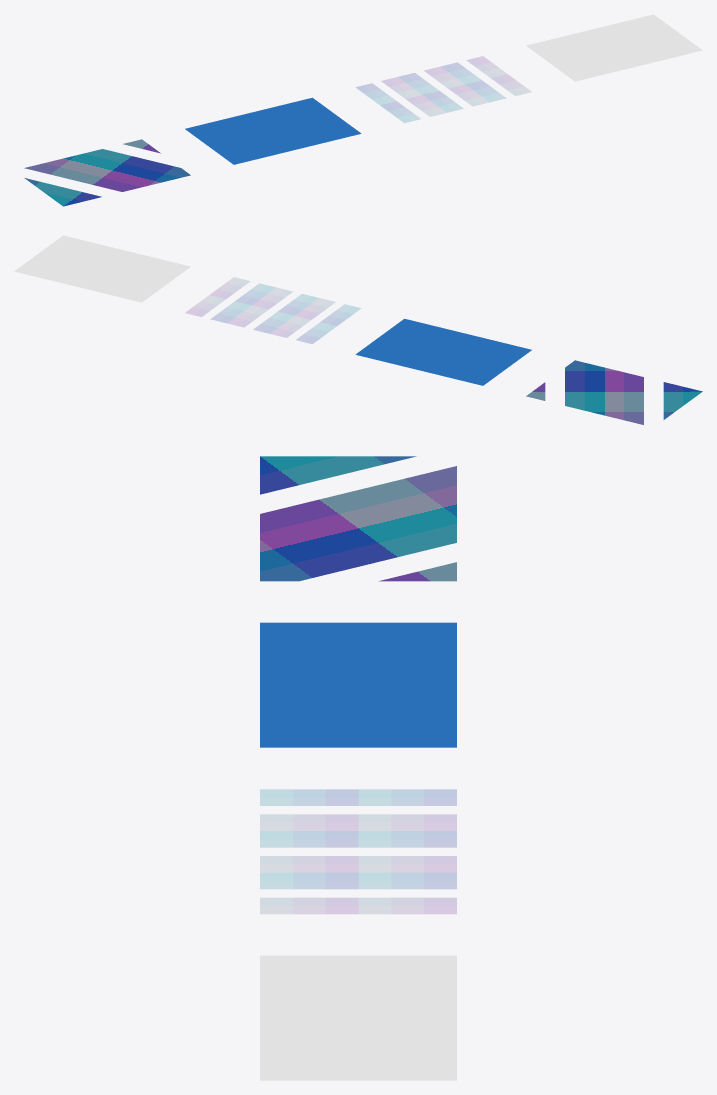
The model's file is textures-alpha.glb.
3 views of the same model, one above another, from view 1: azimuth 30°, elevation 25°; view 2: azimuth 150°, elevation 25°; view 3: azimuth 270°, elevation 25° (orthographic). The views are drawn at different scales.
Visible parts, largest first — view 1: IngeTrazo; view 2: IngeTrazo; view 3: IngeTrazo.
Part boxes in pixels (left/top/right/bottom): IngeTrazo: left=24, top=14, right=702, bottom=206; IngeTrazo: left=14, top=235, right=702, bottom=424; IngeTrazo: left=260, top=456, right=456, bottom=1080.
Bounding box in the file's own units: 15 × 0 × 2.
4 materials, 3 textured.
